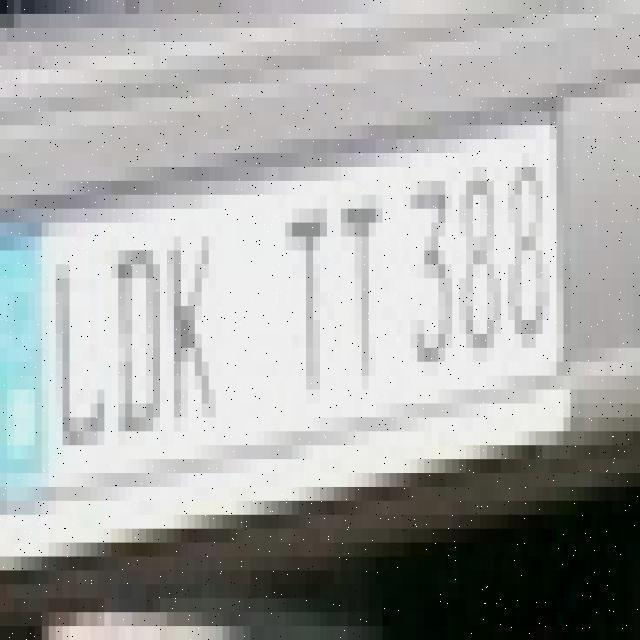LicensePlate: (0, 107, 586, 483)
